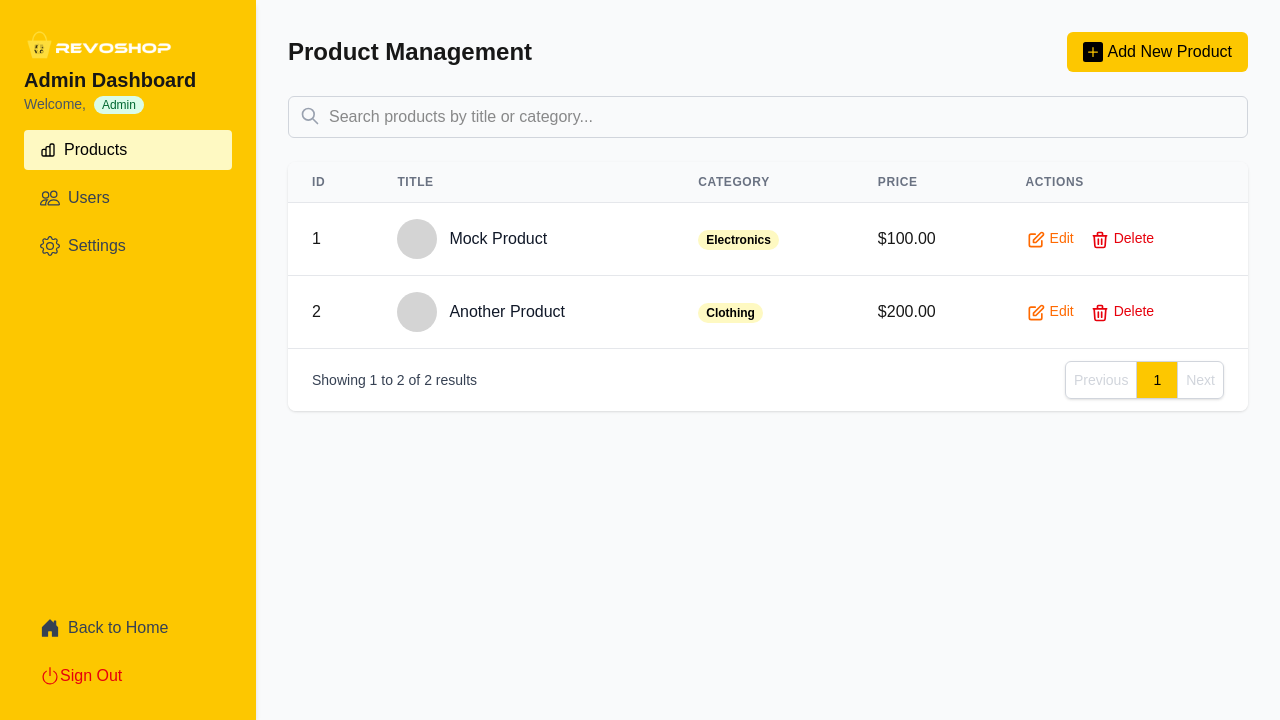
Test: AdminDashboard › Search Functionality › filters products by search term
Check: the text "Mock Product" is shown, box [449,227,547,251]
Type "Mock" into the field with placeholder "Search products by title or category...". click: (768, 117)
box: [288,96,1248,138]
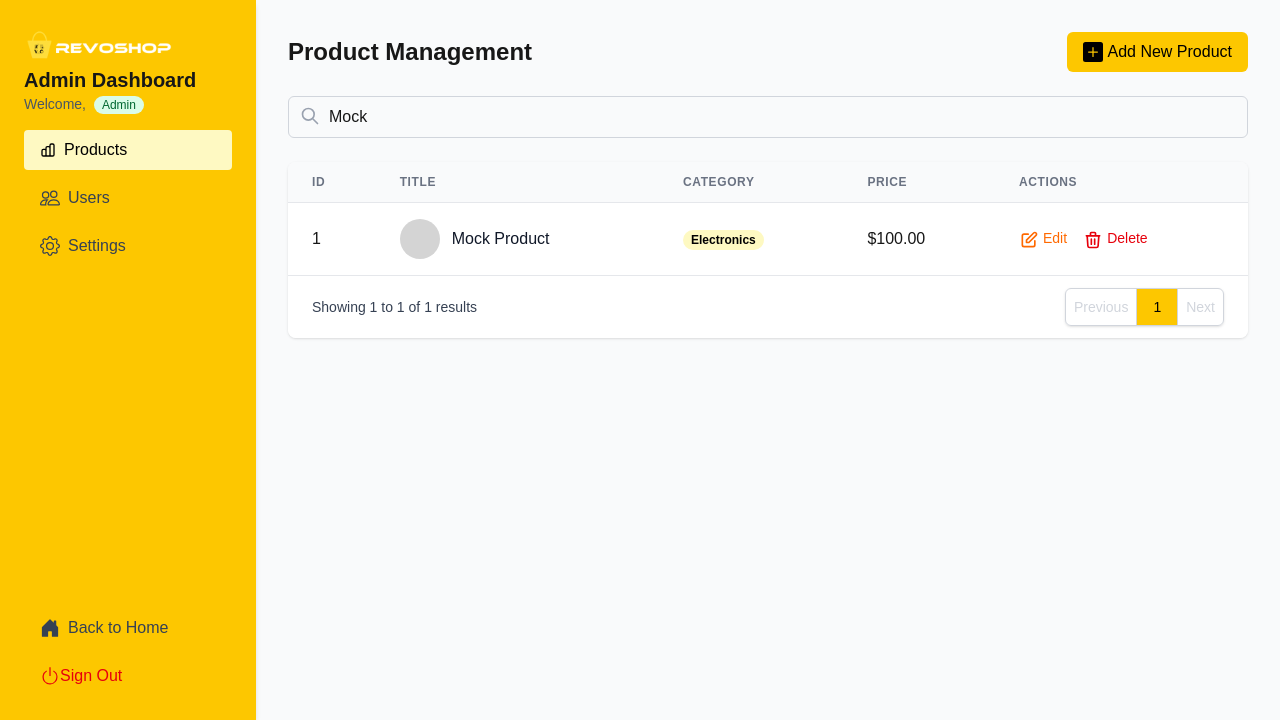
Check: the text "Mock Product" is shown, box [452,227,550,251]
Check: the text "Another Product" is gone
